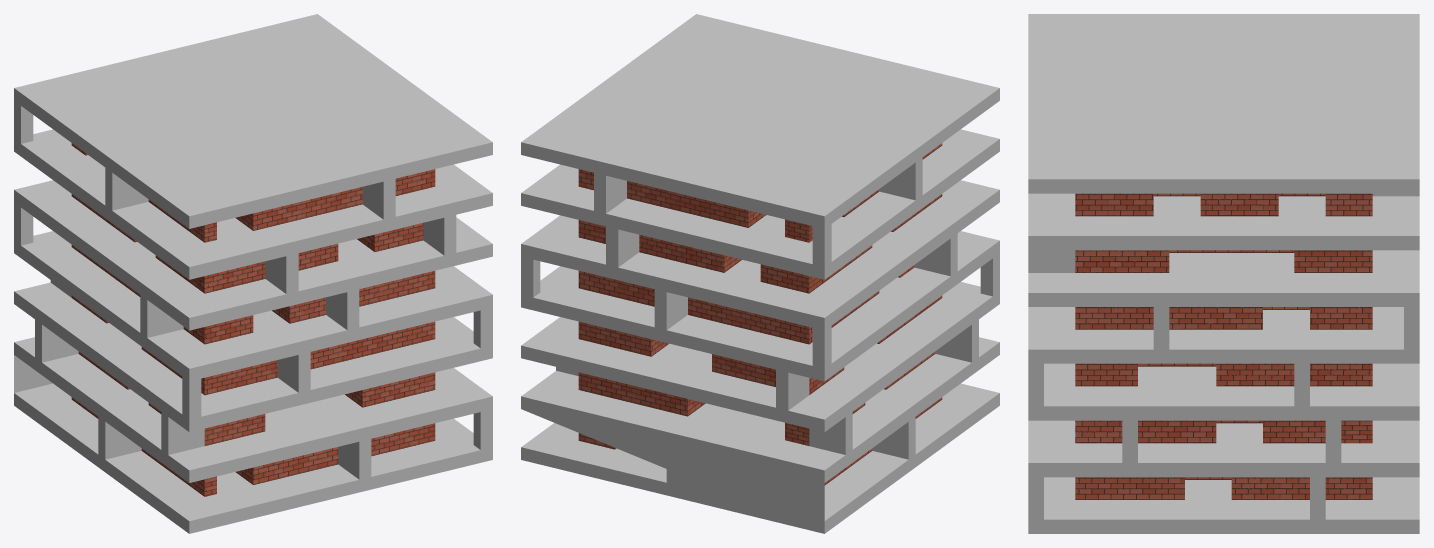
Rendered from Ерейнд 2.0 (2).fbx.
The picture shows the model from 3 angles, left to right: view 1: azimuth 30°, elevation 25°; view 2: azimuth 150°, elevation 25°; view 3: azimuth 270°, elevation 25°; orthographic projection. The views are drawn at different scales.
Visible parts, largest first — view 1: Ерейнд.2.0, Ерейнд.2.001; view 2: Ерейнд.2.0, Ерейнд.2.001; view 3: Ерейнд.2.0, Ерейнд.2.001.
Boxes of the visible parts, left/top/right/bottom form: Ерейнд.2.0: left=14, top=14, right=492, bottom=533; Ерейнд.2.001: left=71, top=143, right=435, bottom=496; Ерейнд.2.0: left=521, top=14, right=999, bottom=533; Ерейнд.2.001: left=578, top=143, right=942, bottom=485; Ерейнд.2.0: left=1028, top=14, right=1419, bottom=533; Ерейнд.2.001: left=1075, top=193, right=1372, bottom=499.
Bounding box in the file's own units: 250 × 250 × 250.
